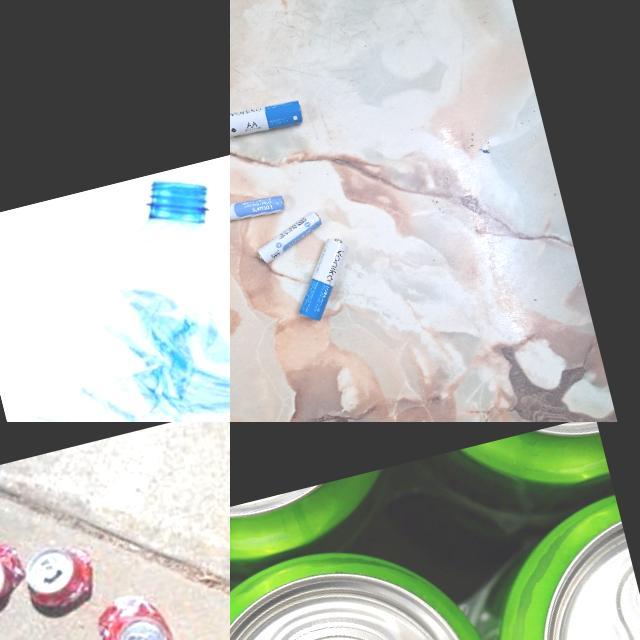aba de lata: (36, 554, 59, 578), (125, 629, 152, 640)
bateria: (282, 235, 363, 326), (250, 208, 330, 266), (230, 93, 305, 144), (230, 187, 287, 228)
garrafa plástica: (0, 152, 230, 422)
lata: (230, 513, 531, 640), (21, 541, 102, 614), (90, 587, 180, 640), (0, 534, 31, 618)
